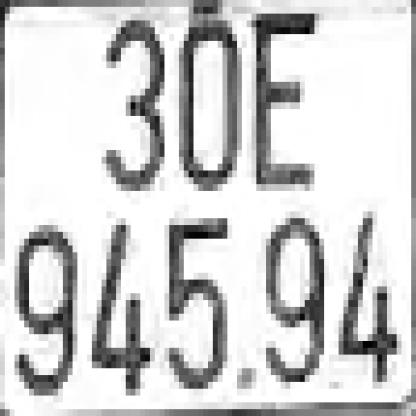0: (179, 27, 237, 191)
3: (101, 20, 164, 191)
4: (92, 218, 155, 389), (334, 211, 396, 382)
5: (170, 211, 222, 382)
9: (14, 218, 78, 389), (261, 211, 319, 375)
E: (252, 14, 314, 184)
